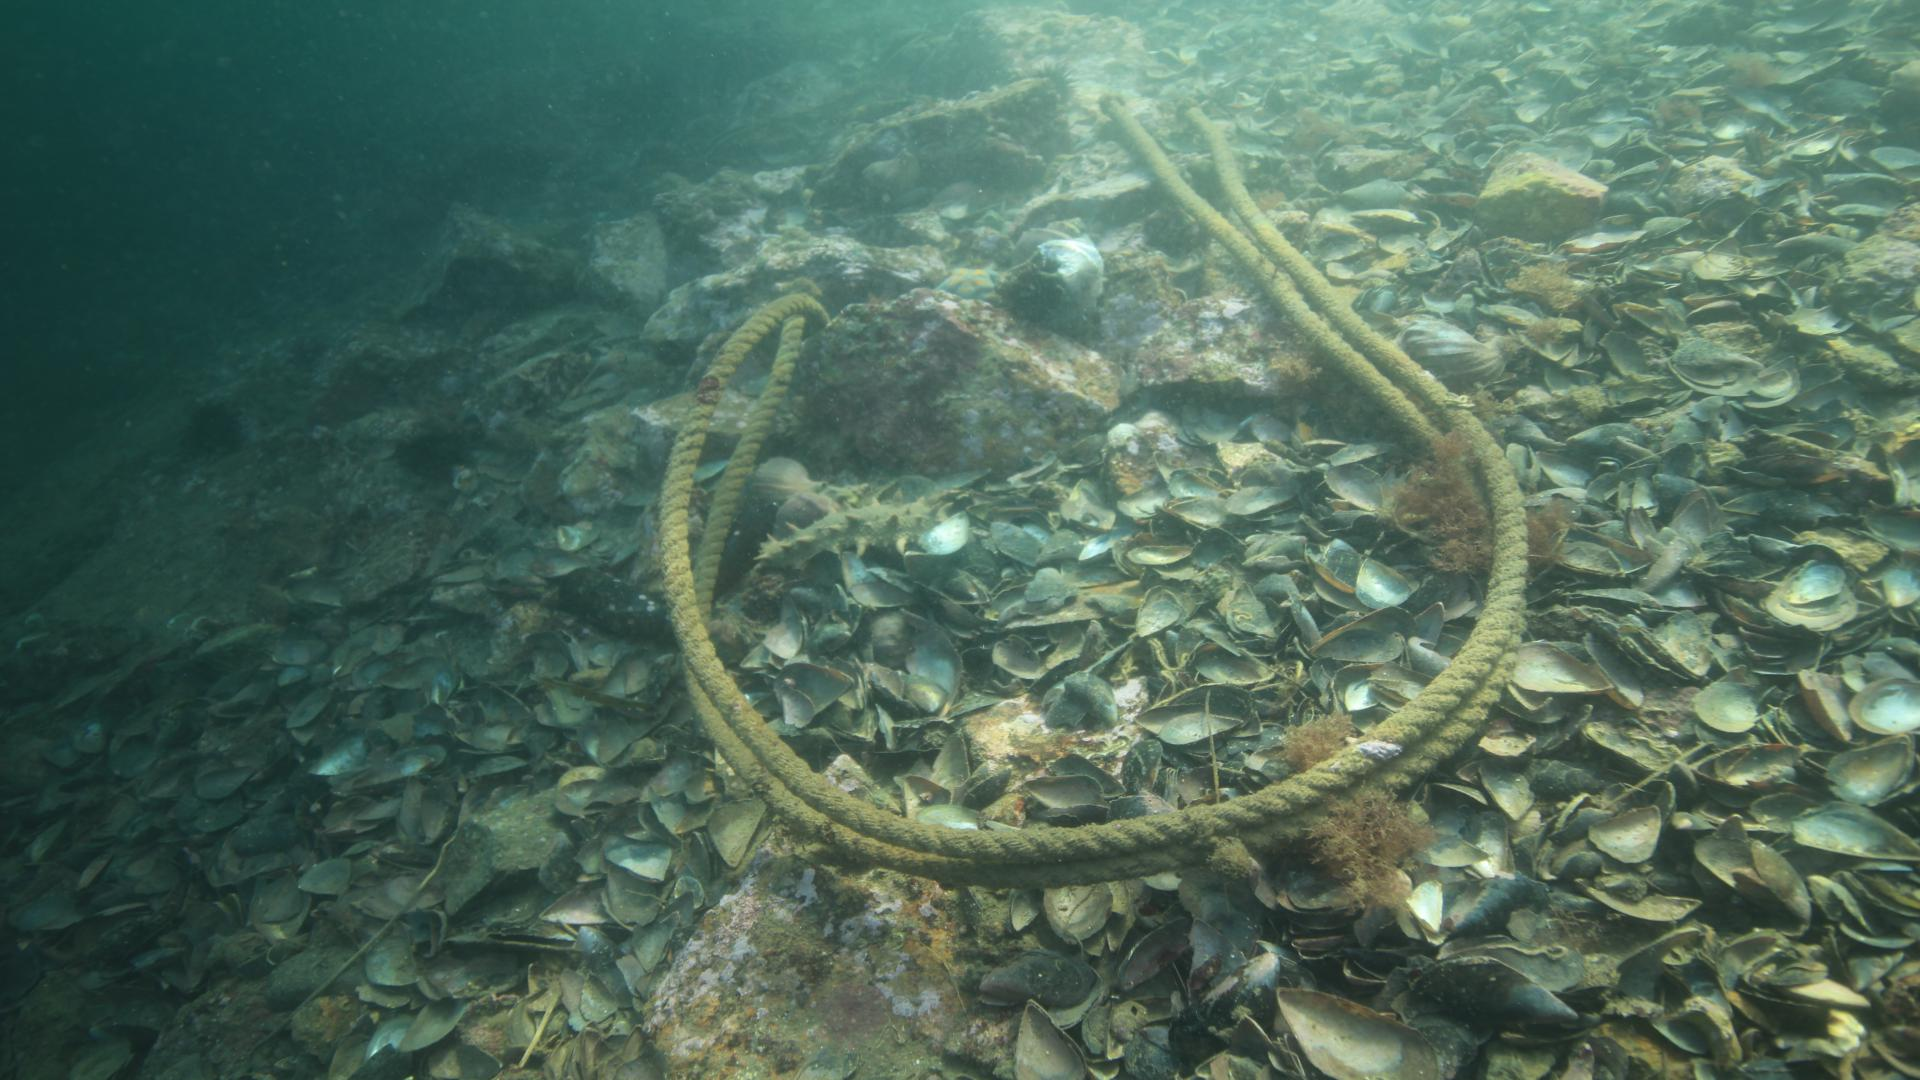bundle of ropes: (653, 94, 1536, 887)
